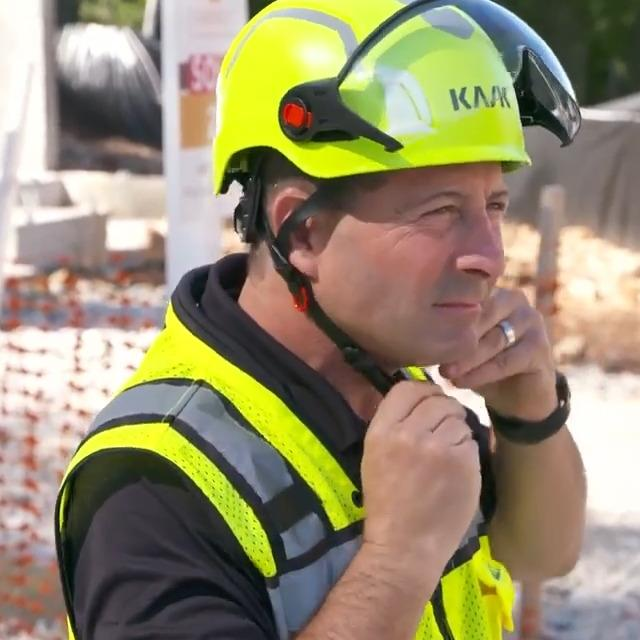Hardhat: (209, 0, 532, 199)
NO-Mask: (335, 226, 508, 371)
Person: (51, 0, 587, 640)
Safety Vest: (51, 305, 516, 640)
